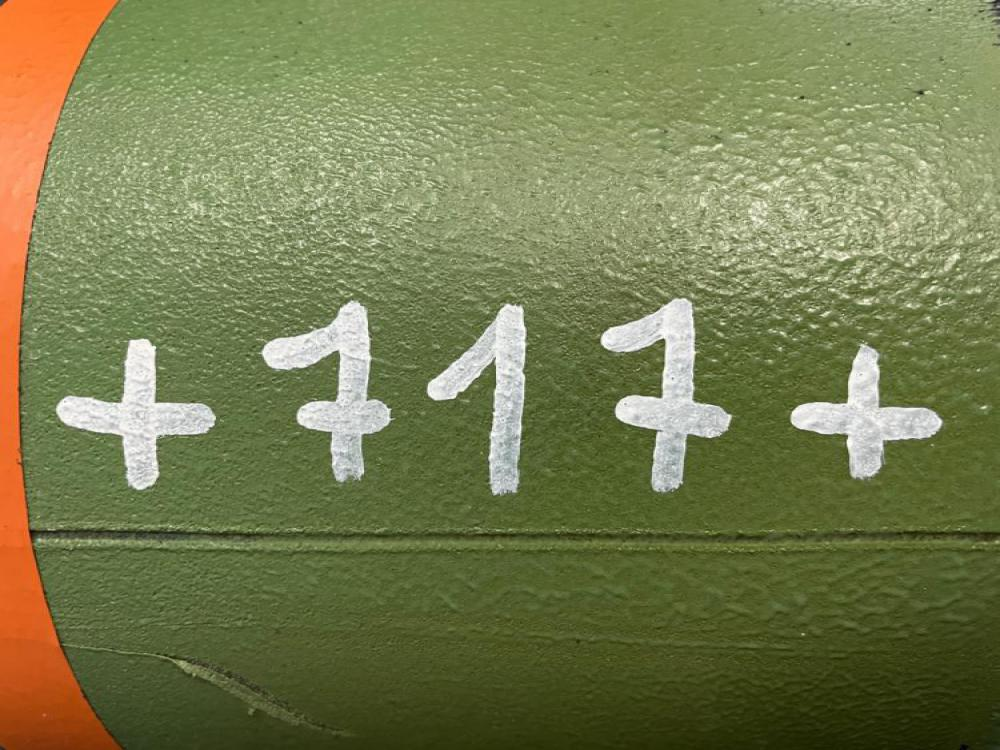+: (58, 340, 222, 488), (795, 345, 941, 483)
1: (428, 302, 543, 499)
7: (595, 298, 732, 494), (265, 298, 392, 484)
